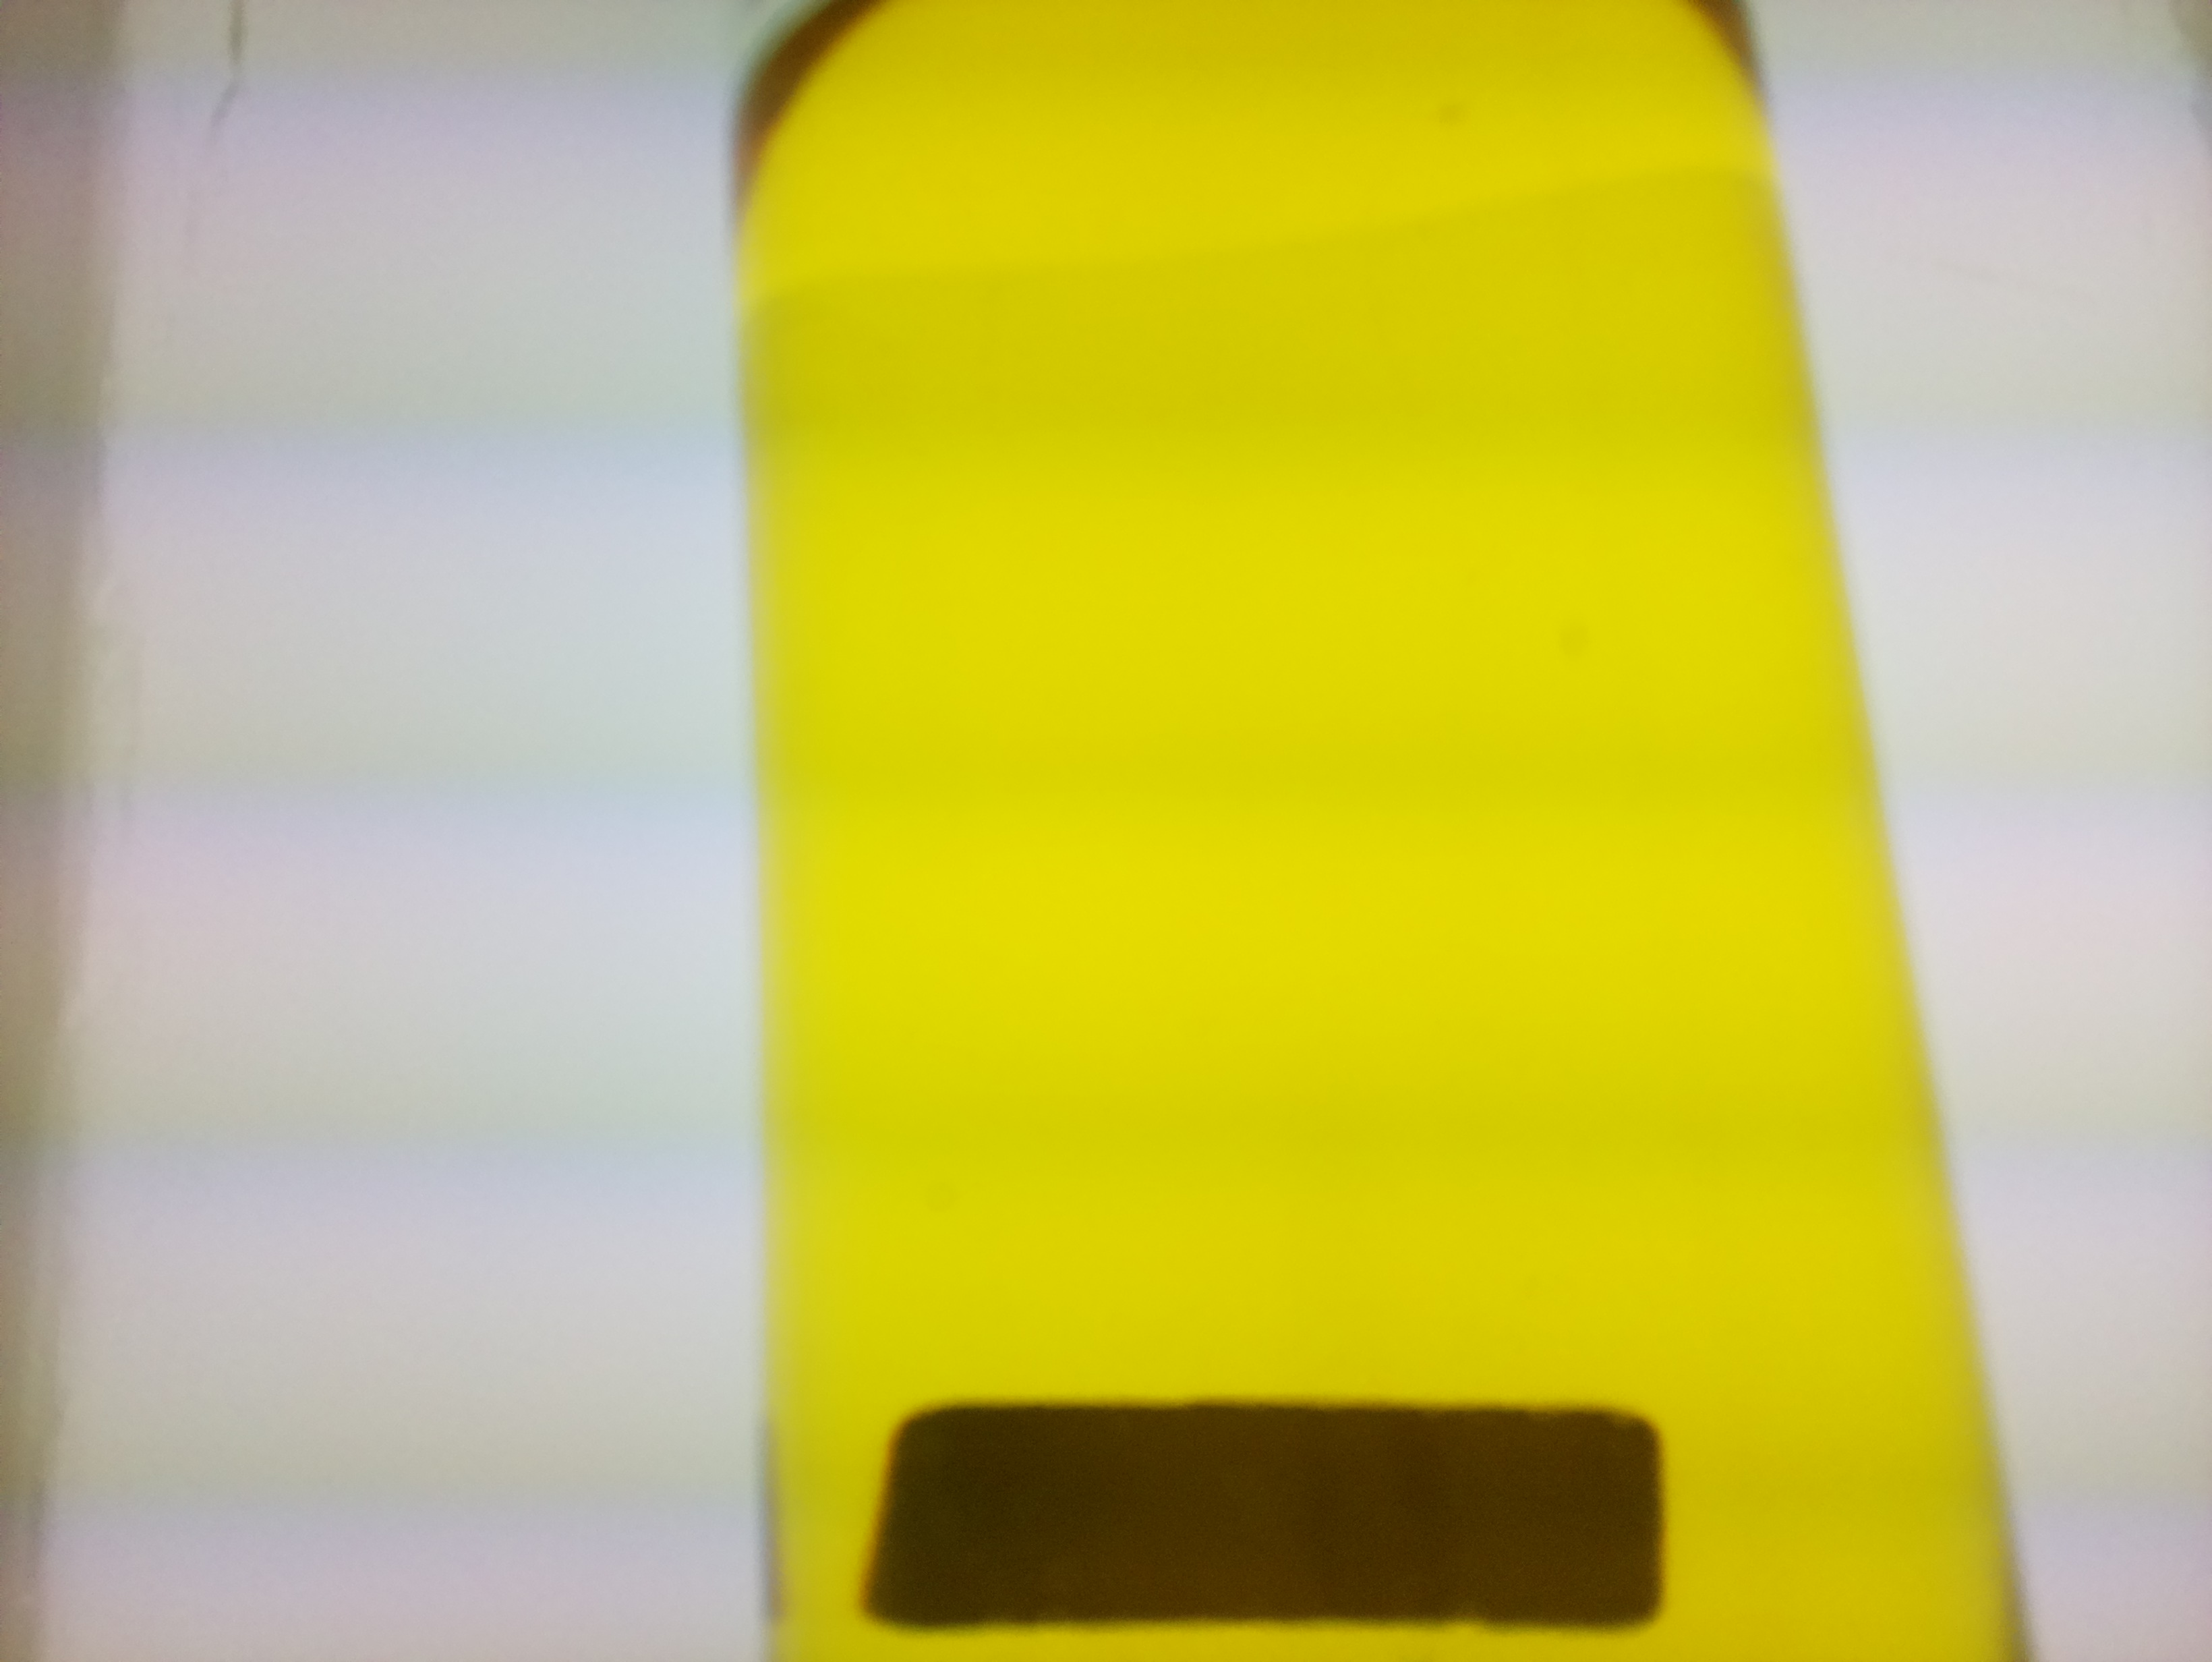colored_area: (728, 19, 2027, 1660)
